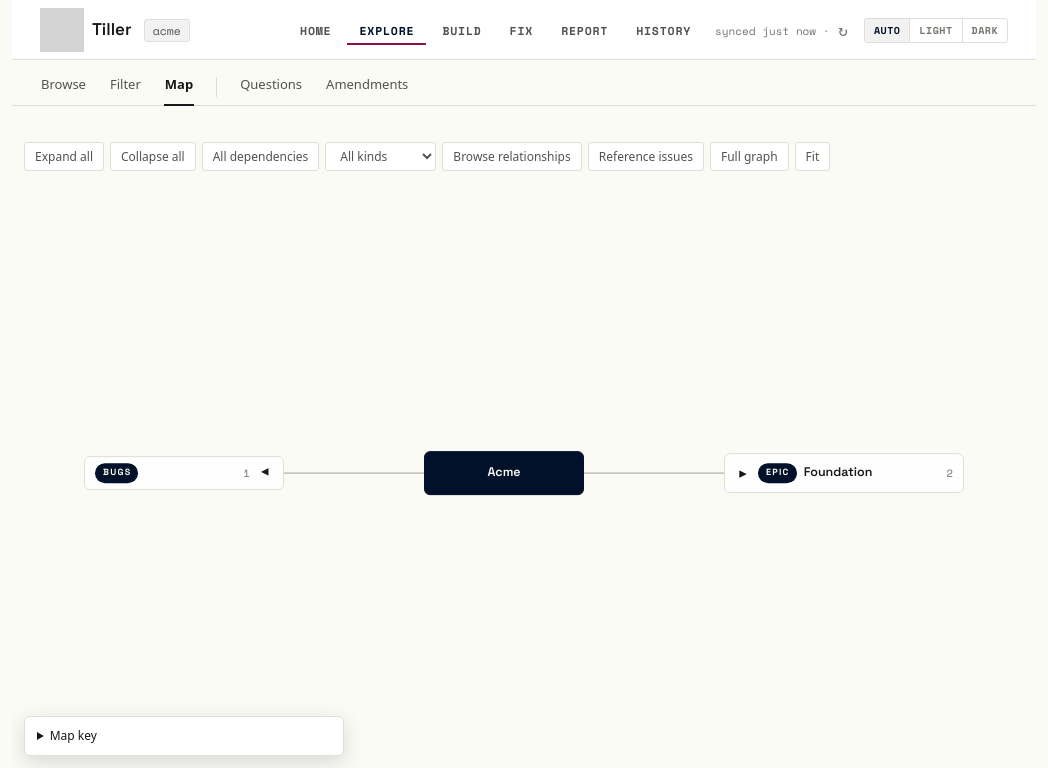
Test: Explore: the map mode › writes the clicked card's id into the URL
expect the number of elements with class "map-card" is 3: met, box [424,451,584,495]; [724,453,964,493]; [84,456,284,490]
Click the button "Expand all" at (64, 156), box [24,142,104,171]
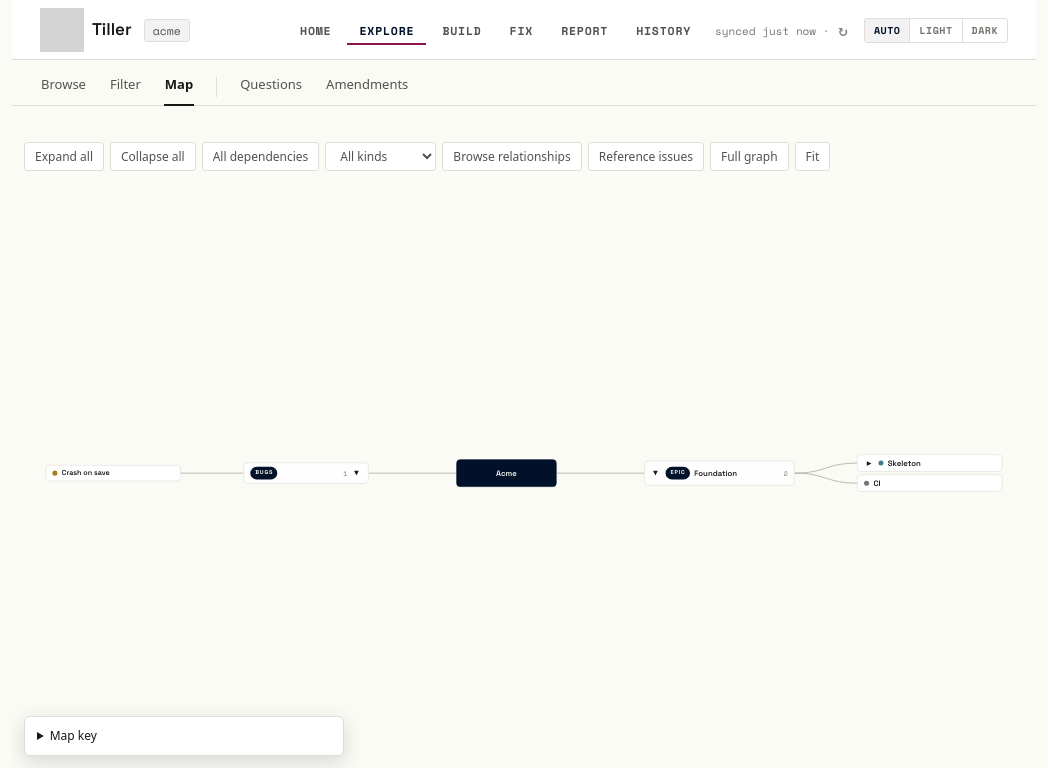
expect the number of elements with class "map-card" is 6: met, box [456,459,557,487]; [644,460,794,485]; [857,454,1002,472]; [857,474,1002,492]; [243,462,369,484]; [46,465,181,481]
Click the button "Skeleton" at (937, 463), box [878,455,996,471]
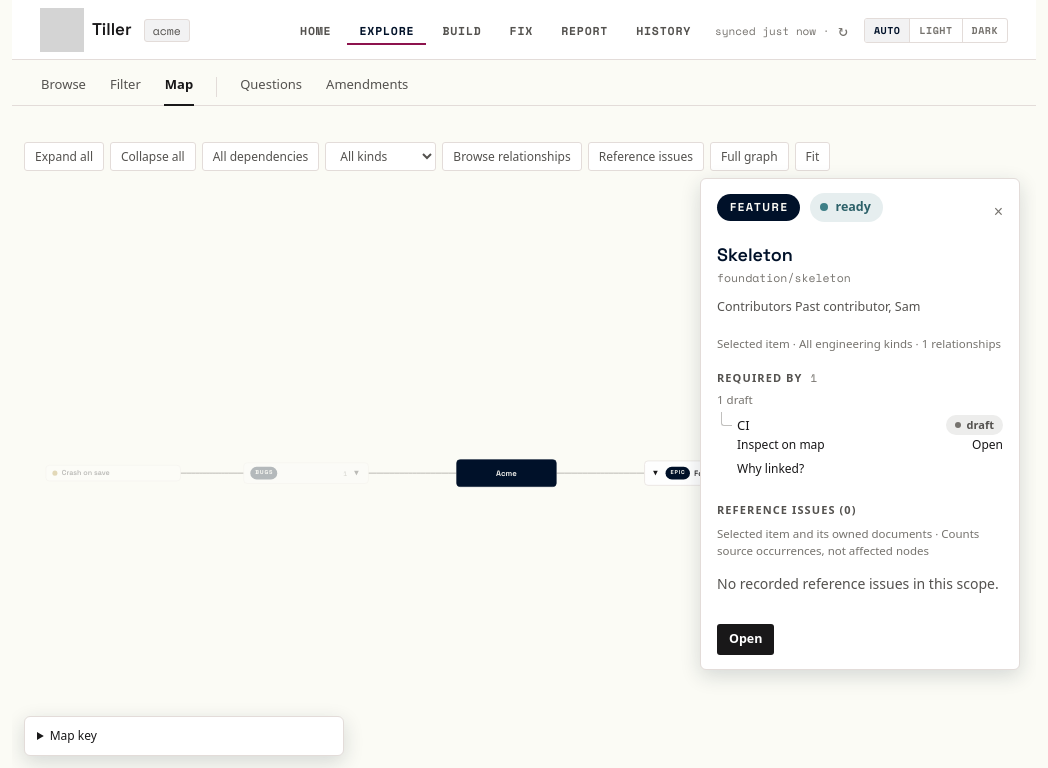
expect the heading "Skeleton" is shown: met, box [717,242,793,266]
